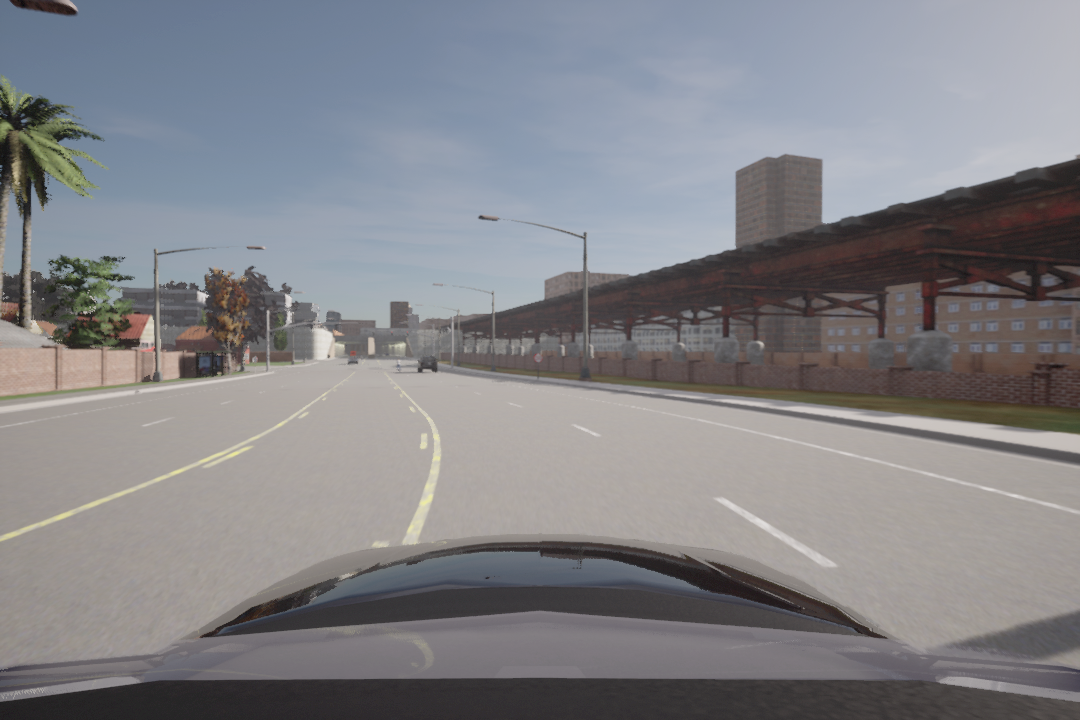TrafficSign_speed: (531, 352, 543, 363)
